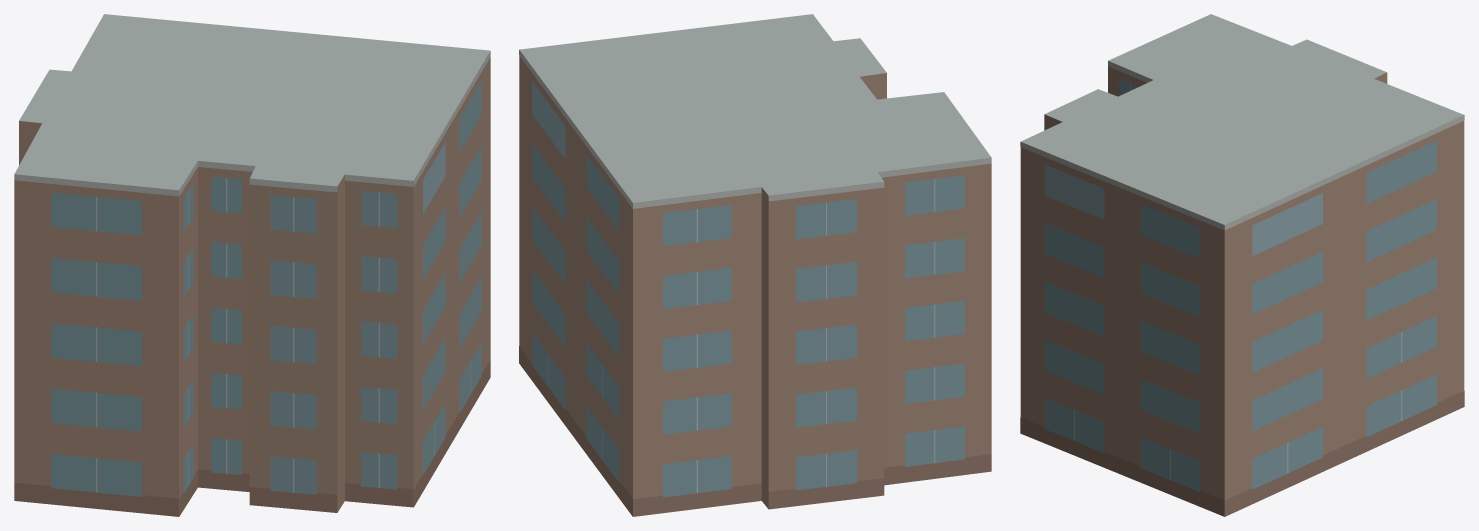
The model's file is survey-upis-32937535.glb.
The picture shows the model from 3 angles, left to right: view 1: azimuth 30°, elevation 25°; view 2: azimuth 150°, elevation 25°; view 3: azimuth 270°, elevation 25°; orthographic projection. The views are drawn at different scales.
Parts seen in each view (by area): view 1: survey-upis-32937535.tmp; view 2: survey-upis-32937535.tmp; view 3: survey-upis-32937535.tmp.
Boxes of the visible parts, x1,y1,x2,y2 form: survey-upis-32937535.tmp: (14,14,490,516); survey-upis-32937535.tmp: (519,14,991,516); survey-upis-32937535.tmp: (1020,14,1464,516).
Size of the model in its own units: 20.33 by 13.1 by 18.07.
